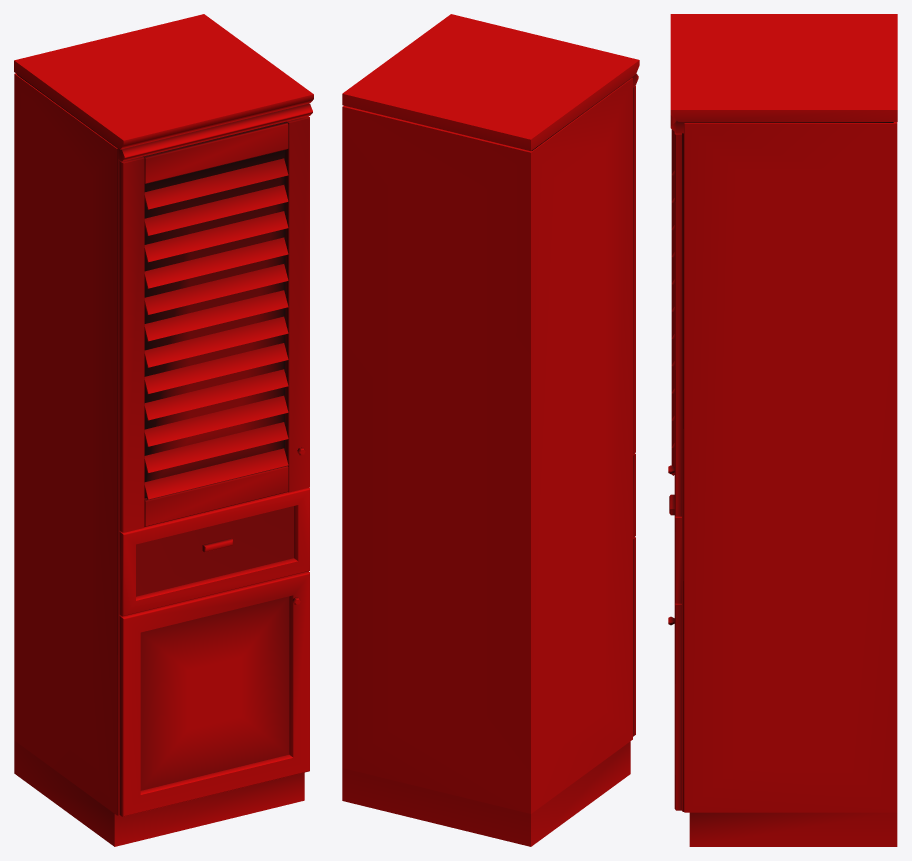
File: CI_Kitchen_Pantry_Tall.glb
3 views of the same model, side by side, from view 1: azimuth 30°, elevation 25°; view 2: azimuth 150°, elevation 25°; view 3: azimuth 270°, elevation 25° (orthographic). The views are drawn at different scales.
Parts seen in each view (by area): view 1: CI_Kitchen_Pantry_Tall; view 2: CI_Kitchen_Pantry_Tall; view 3: CI_Kitchen_Pantry_Tall.
Part boxes in pixels (x1,y1,x2,y2): CI_Kitchen_Pantry_Tall: (14, 14, 313, 846); CI_Kitchen_Pantry_Tall: (342, 14, 639, 846); CI_Kitchen_Pantry_Tall: (668, 14, 897, 846).
Bounding box in the file's own units: 0.6 × 2.15 × 0.6068.
